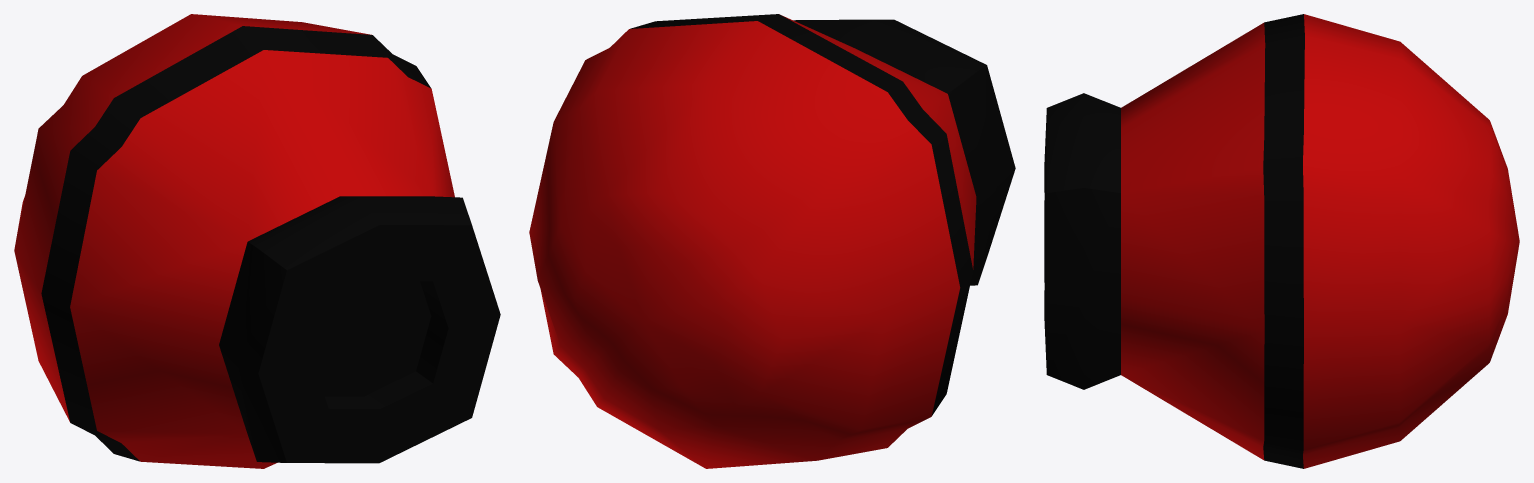
Rendered from Left Sleeve.obj.
3 views of the same model, side by side, from view 1: azimuth 30°, elevation 25°; view 2: azimuth 150°, elevation 25°; view 3: azimuth 270°, elevation 25° (orthographic). The views are drawn at different scales.
Parts seen in each view (by area): view 1: Left_Sleeve; view 2: Left_Sleeve; view 3: Left_Sleeve.
Part boxes in pixels (left/top/right/bottom): Left_Sleeve: left=14, top=14, right=500, bottom=468; Left_Sleeve: left=529, top=14, right=1015, bottom=468; Left_Sleeve: left=1044, top=14, right=1519, bottom=468.
Bounding box in the file's own units: 0.6444 × 0.6648 × 0.6964.
